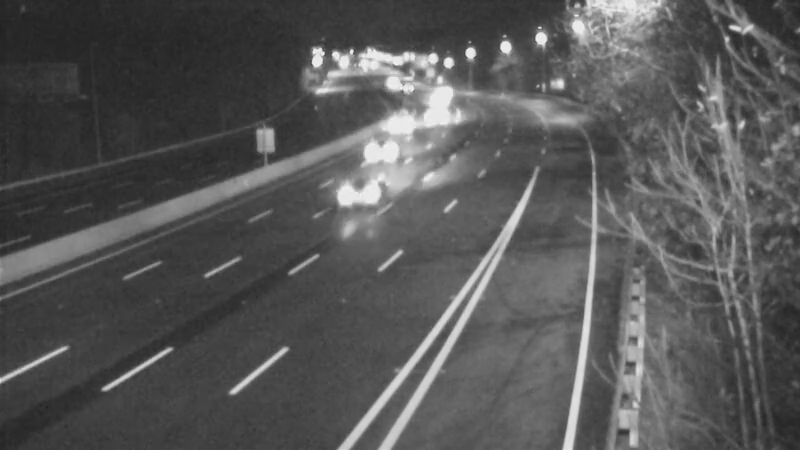vehicle: (311, 157, 391, 237), (364, 59, 414, 109), (379, 57, 429, 107), (417, 66, 467, 116), (410, 76, 460, 126), (409, 93, 459, 143), (371, 96, 421, 146), (367, 125, 417, 175)
